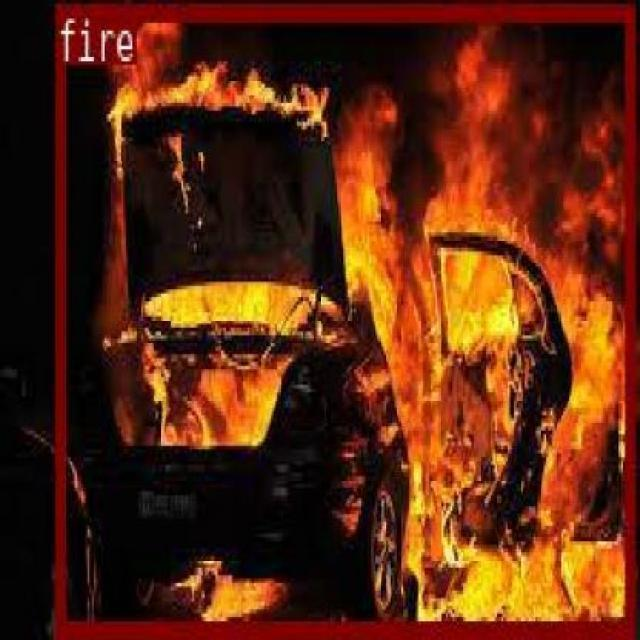Fire: (83, 0, 640, 605)
Smoke: (412, 40, 608, 282)
